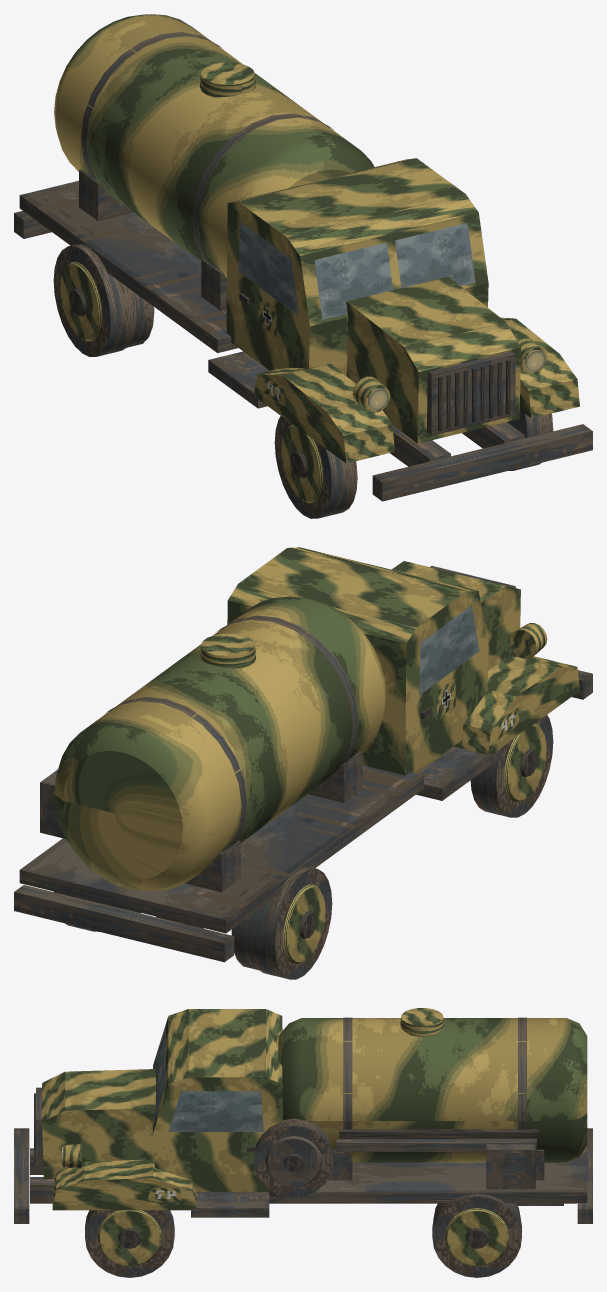
Rendered from opel-blitz-tanker-own.glb.
3 views of the same model, one above another, from view 1: azimuth 30°, elevation 25°; view 2: azimuth 150°, elevation 25°; view 3: azimuth 270°, elevation 25° (orthographic). The views are drawn at different scales.
Visible parts, largest first — view 1: CabShell, TankAndServiceBox, CabFendersAndLights, LoadBed, RoadWheelsAndSpare, CabGlazing, Chassis; view 2: TankAndServiceBox, CabShell, LoadBed, RoadWheelsAndSpare, CabFendersAndLights, Chassis, CabGlazing; view 3: TankAndServiceBox, CabShell, RoadWheelsAndSpare, LoadBed, CabFendersAndLights, CabGlazing, Chassis.
Boxes of the visible parts, <box> form: CabShell: <box>226,158,520,443</box>; TankAndServiceBox: <box>54,14,374,277</box>; CabFendersAndLights: <box>208,293,579,463</box>; LoadBed: <box>19,169,238,352</box>; RoadWheelsAndSpare: <box>53,244,553,518</box>; CabGlazing: <box>238,222,475,319</box>; Chassis: <box>14,211,592,501</box>; TankAndServiceBox: <box>40,596,386,891</box>; CabShell: <box>227,547,520,775</box>; LoadBed: <box>19,751,423,933</box>; RoadWheelsAndSpare: <box>54,715,553,979</box>; CabFendersAndLights: <box>416,623,579,800</box>; Chassis: <box>14,670,592,962</box>; CabGlazing: <box>419,605,479,695</box>; TankAndServiceBox: <box>278,1008,587,1189</box>; CabShell: <box>36,1009,282,1191</box>; RoadWheelsAndSpare: <box>85,1118,521,1277</box>; LoadBed: <box>276,1145,587,1202</box>; CabFendersAndLights: <box>34,1093,269,1217</box>; CabGlazing: <box>153,1026,263,1131</box>; Chassis: <box>14,1128,592,1223</box>.
Size of what is drawn, in the model's own units: 2.2 by 2.5 by 6.
Materials: 1 (1 with a texture image).
